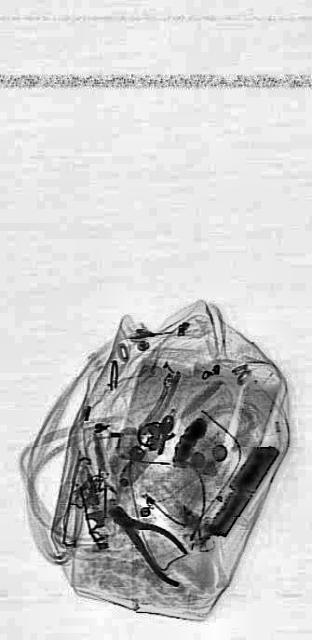Pliers: (107, 483, 187, 592)
